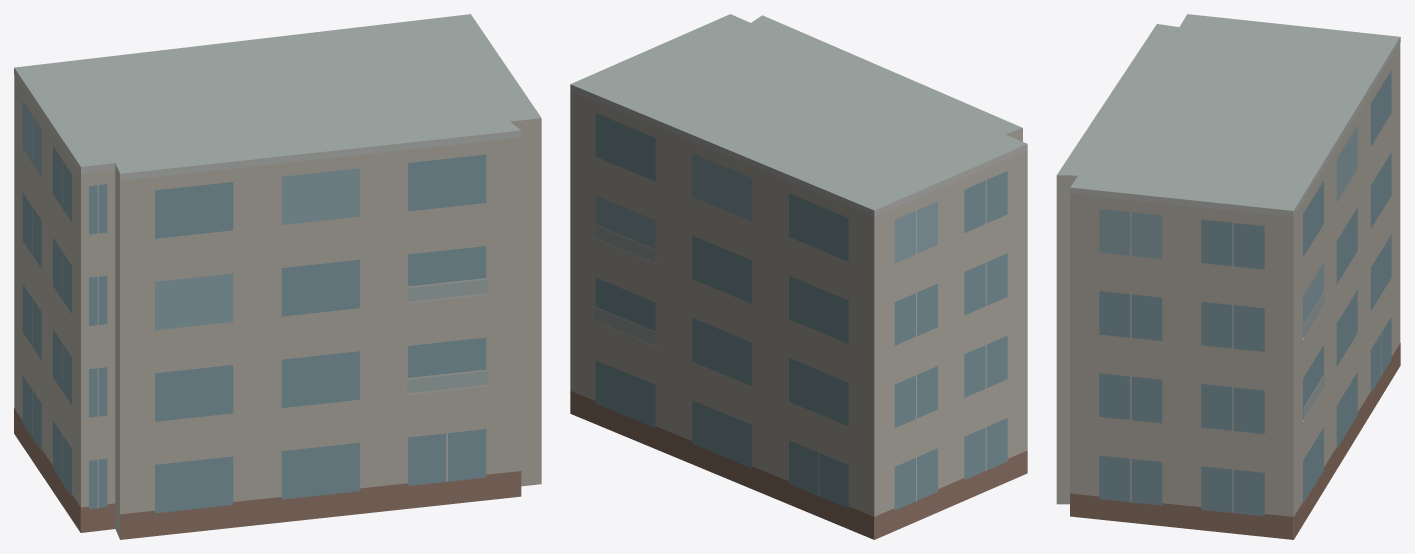
Rendered from survey-upis-32810975.glb.
The picture shows the model from 3 angles, left to right: view 1: azimuth 30°, elevation 25°; view 2: azimuth 150°, elevation 25°; view 3: azimuth 270°, elevation 25°; orthographic projection. The views are drawn at different scales.
Parts seen in each view (by area): view 1: survey-upis-32810975.tmp; view 2: survey-upis-32810975.tmp; view 3: survey-upis-32810975.tmp.
Part boxes in pixels (<box>): survey-upis-32810975.tmp: <box>14,14,541,539</box>; survey-upis-32810975.tmp: <box>570,14,1027,539</box>; survey-upis-32810975.tmp: <box>1056,14,1400,539</box>.
Bounding box in the file's own units: 16.32 × 12.7 × 12.04.
